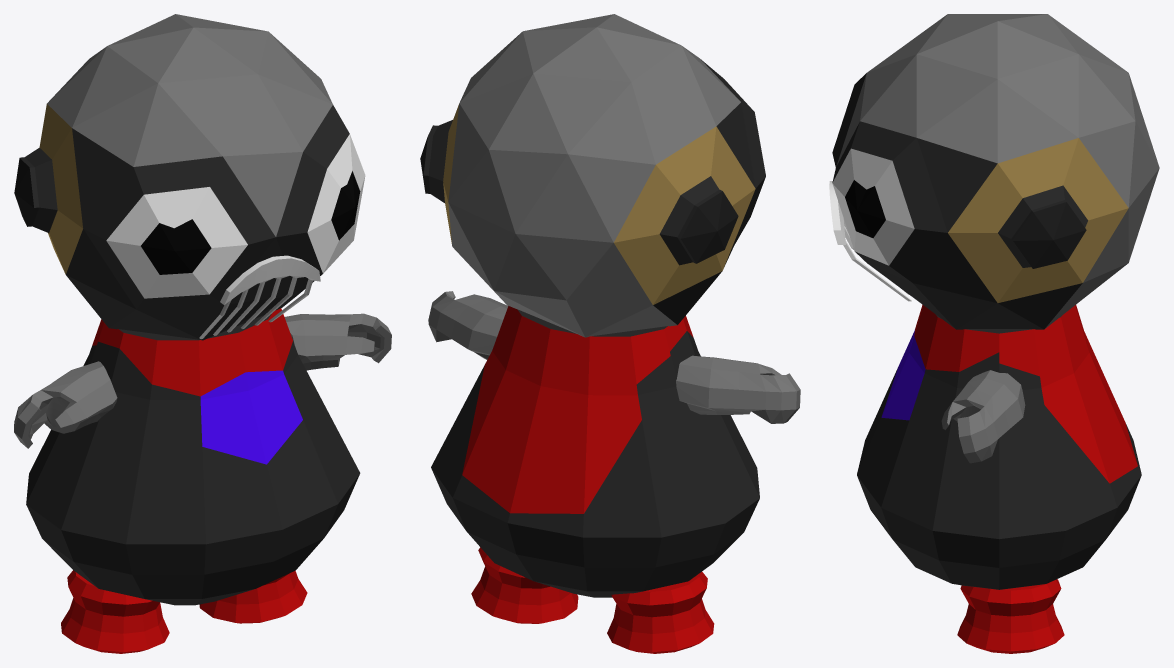
Rendered from robozinho.FBX.
3 views of the same model, side by side, from view 1: azimuth 30°, elevation 25°; view 2: azimuth 150°, elevation 25°; view 3: azimuth 270°, elevation 25° (orthographic).
Parts seen in each view (by area): view 1: GeoSphere001, Cone002, Cone003, Cone006, Cone007, Box001, Cone001; view 2: GeoSphere001, Cone002, Cone006, Cone003, Cone001, Cone007; view 3: GeoSphere001, Cone002, Cone001, Cone007, Box001.
Boxes of the visible parts, box(x1,y1,x2,y2) form: GeoSphere001: box(14, 14, 365, 340); Cone002: box(26, 308, 360, 605); Cone003: box(61, 570, 169, 653); Cone006: box(14, 361, 117, 448); Cone007: box(284, 313, 391, 370); Box001: box(199, 255, 320, 339); Cone001: box(199, 570, 307, 623); GeoSphere001: box(420, 14, 765, 337); Cone002: box(431, 306, 759, 597); Cone006: box(676, 355, 800, 423); Cone003: box(607, 571, 714, 653); Cone001: box(471, 547, 578, 623); Cone007: box(428, 291, 508, 359); GeoSphere001: box(832, 14, 1159, 329); Cone002: box(857, 304, 1141, 589); Cone001: box(957, 579, 1064, 653); Cone007: box(941, 370, 1025, 463); Box001: box(829, 181, 911, 301).
Size of the model in its own units: 4.41 by 6.78 by 3.44.
